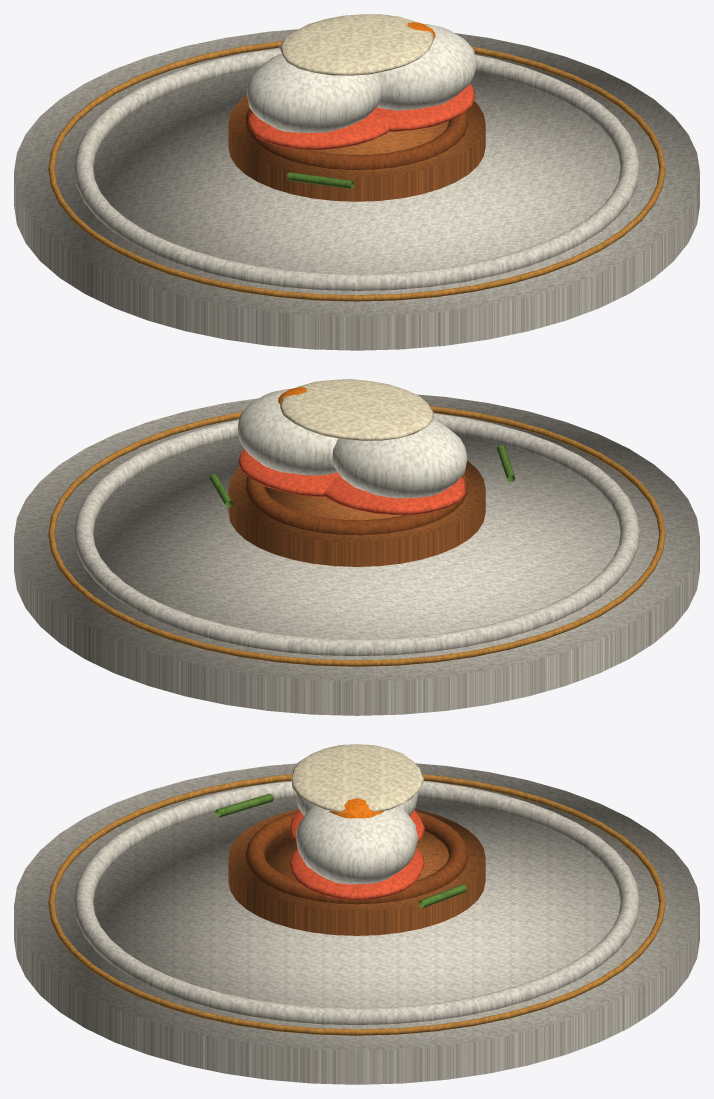
The model's file is huevos-benedictinos.glb.
3 views of the same model, one above another, from view 1: azimuth 30°, elevation 25°; view 2: azimuth 150°, elevation 25°; view 3: azimuth 270°, elevation 25° (orthographic).
Visible parts, largest first — view 1: porcelain, white, bread, gold, cream, fish, crust, leafLight; view 2: porcelain, white, bread, gold, cream, fish, crust, leafLight; view 3: porcelain, bread, gold, white, cream, crust, fish, leafLight, yolk.
Part boxes in pixels (x1,y1,x2,y2): porcelain: [14, 29, 699, 350]; white: [247, 23, 476, 132]; bread: [228, 95, 485, 201]; gold: [48, 41, 665, 301]; cream: [279, 14, 433, 75]; fish: [248, 83, 475, 149]; crust: [245, 108, 468, 169]; leafLight: [287, 172, 353, 188]; porcelain: [14, 394, 699, 715]; white: [237, 389, 467, 498]; bread: [228, 460, 485, 566]; gold: [48, 406, 665, 666]; cream: [280, 379, 433, 440]; fish: [238, 449, 465, 514]; crust: [245, 473, 468, 535]; leafLight: [209, 444, 515, 507]; porcelain: [14, 763, 699, 1084]; bread: [228, 809, 485, 935]; gold: [48, 774, 665, 1035]; white: [296, 791, 418, 884]; cream: [291, 744, 423, 812]; crust: [245, 810, 468, 904]; fish: [290, 810, 424, 900]; leafLight: [215, 793, 466, 908]; yolk: [330, 798, 383, 818].
Bounding box in the file's own units: 0.64 × 0.1746 × 0.64.
9 materials, 9 textured.
